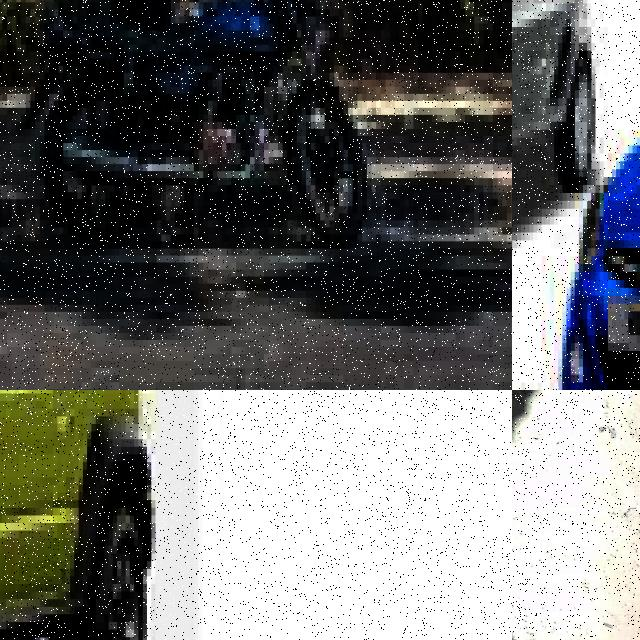bike: (21, 0, 371, 276)
car: (0, 390, 181, 640), (562, 0, 640, 390), (512, 0, 603, 208)
